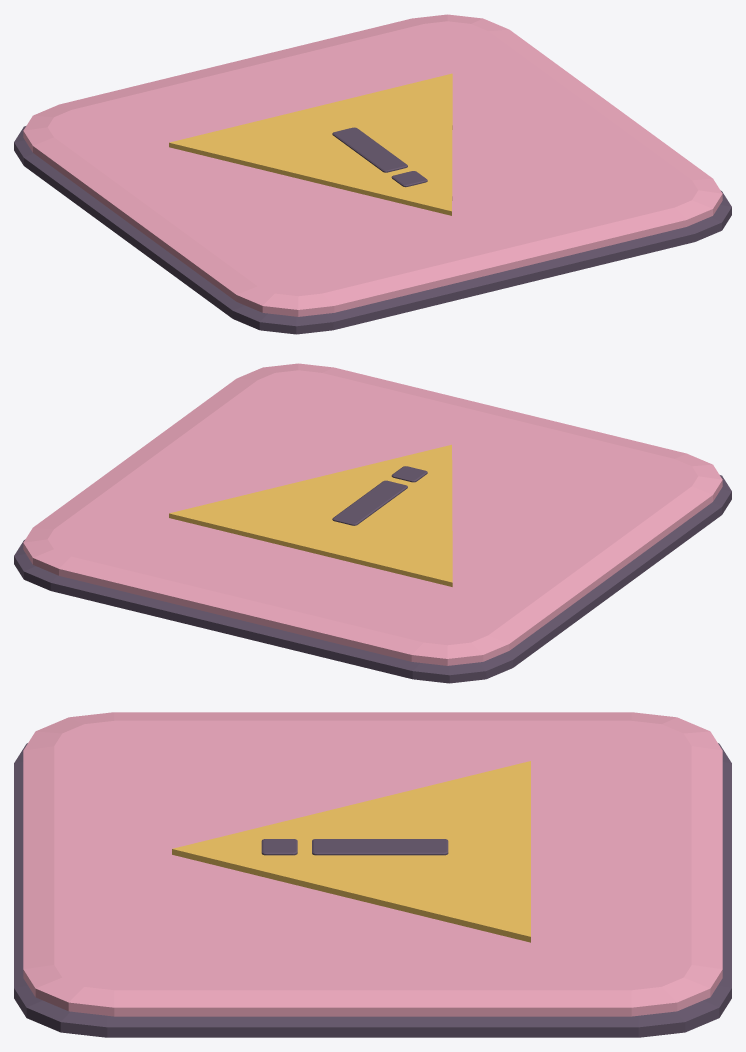
The model's file is tile_mishap.glb.
3 renders of one model, top to bottom at view 1: azimuth 30°, elevation 25°; view 2: azimuth 150°, elevation 25°; view 3: azimuth 270°, elevation 25°, orthographic. The views are drawn at different scales.
Parts seen in each view (by area): view 1: model; view 2: model; view 3: model.
Part boxes in pixels (bbox=[...]): model: bbox=[14, 14, 731, 334]; model: bbox=[14, 363, 731, 683]; model: bbox=[14, 712, 731, 1037].
Bounding box in the file's own units: 2 × 0.14 × 2.
